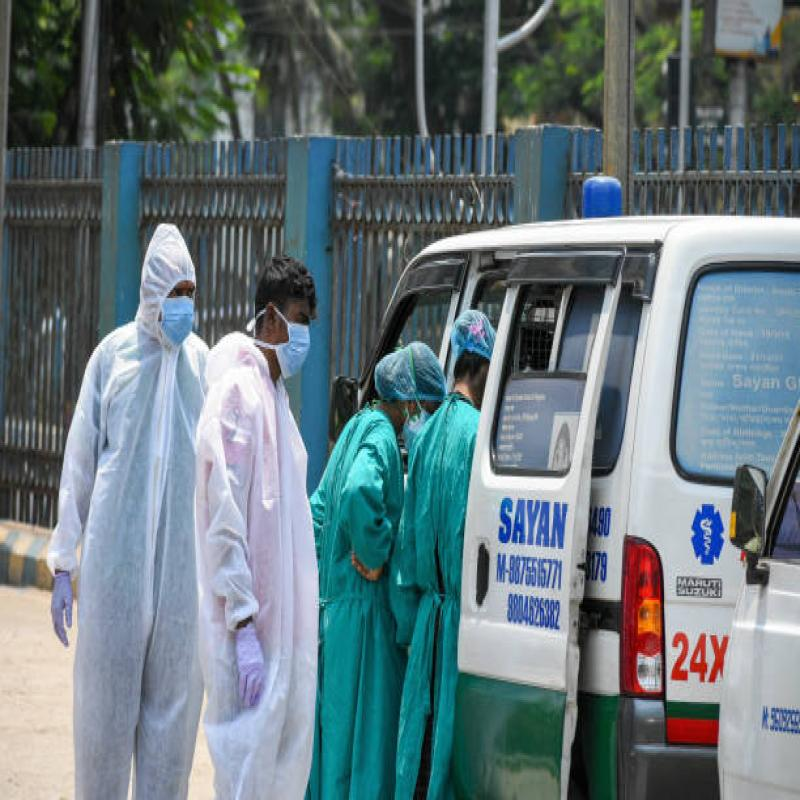ambulance: (382, 233, 794, 800)
